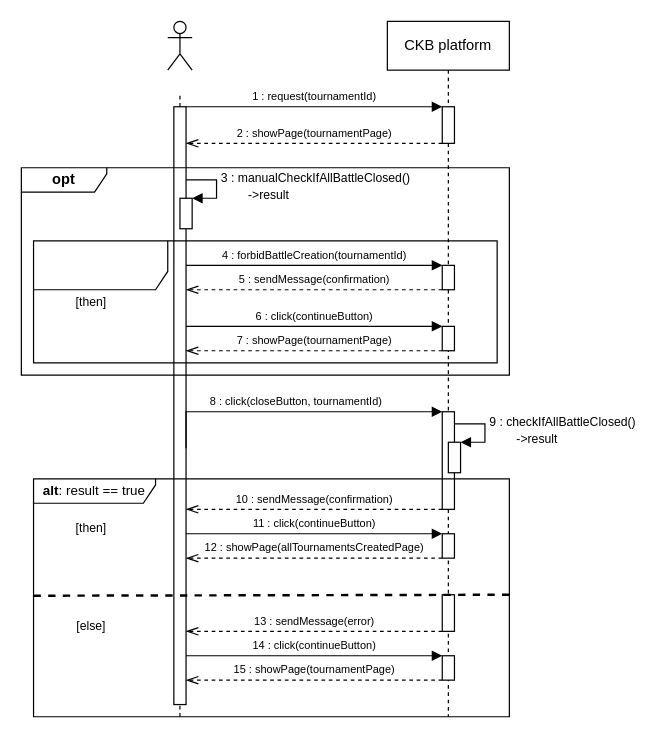
The diagram is 658 pixels wide and 739 high, and some of its shapes have lost their labels. Each missing label, with the box of its shape:
alt : result == true && Educator == tournamentCreator: (32, 240, 497, 363)
Educator: (167, 20, 192, 70)
